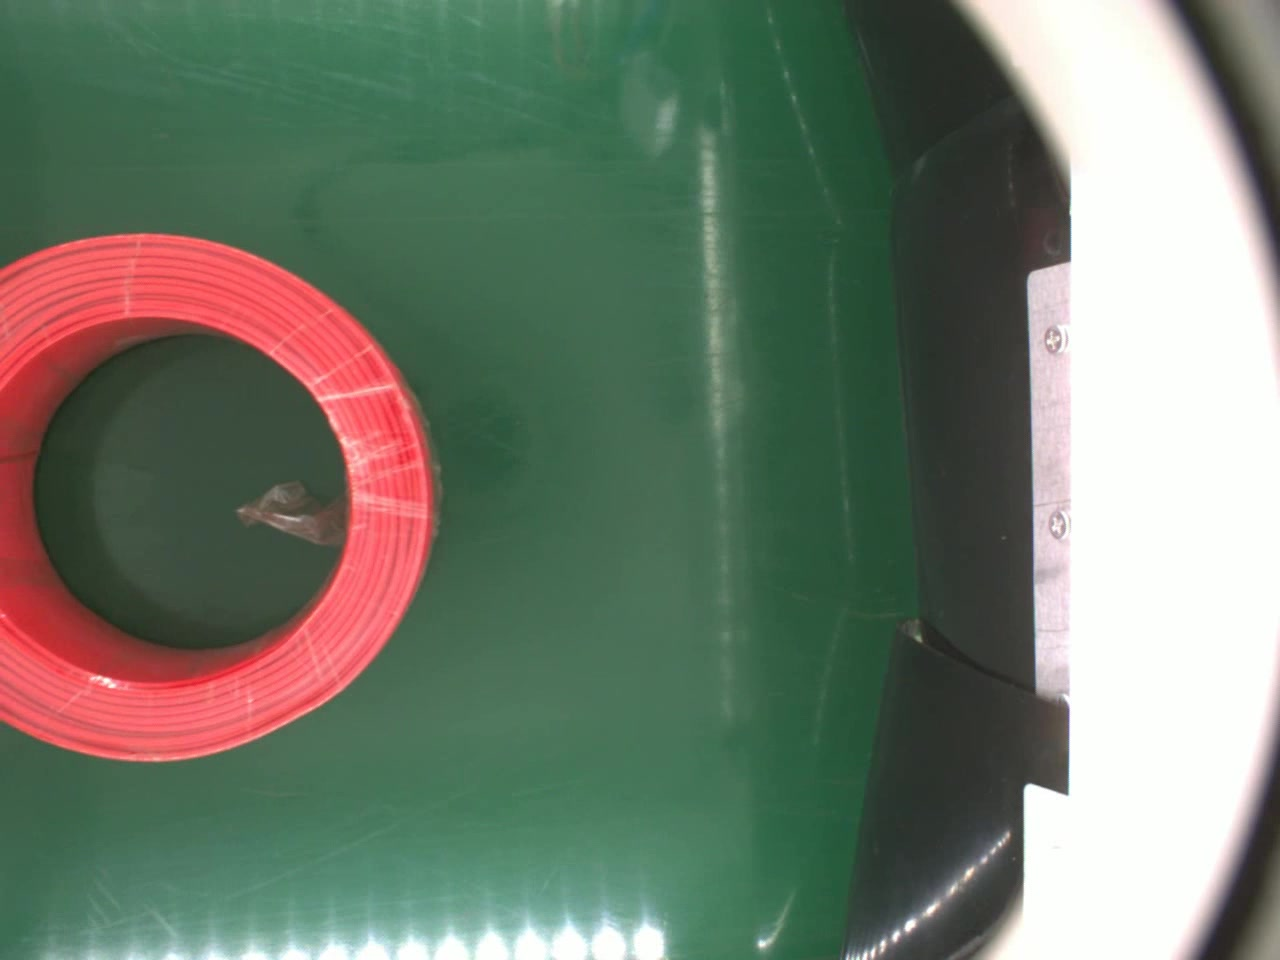red: (0, 228, 442, 760)
